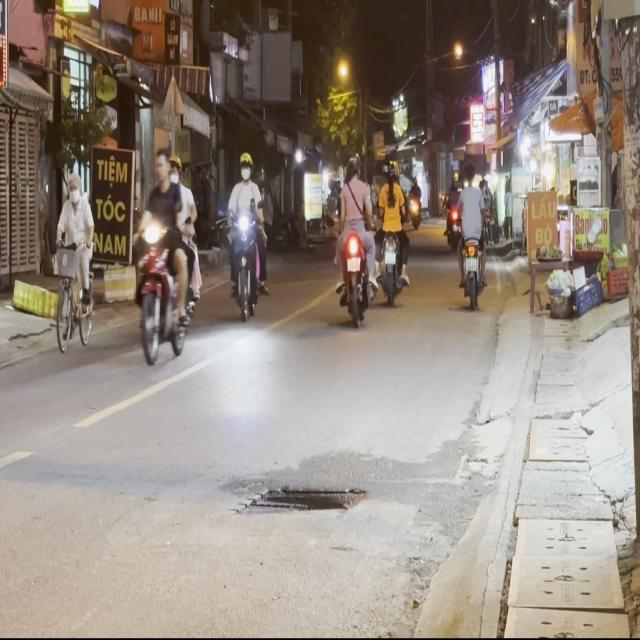helmet: (238, 150, 252, 180), (168, 153, 181, 182)
licenseplate: (131, 144, 200, 366), (224, 150, 268, 321)
motorcyclist: (152, 150, 170, 184)
